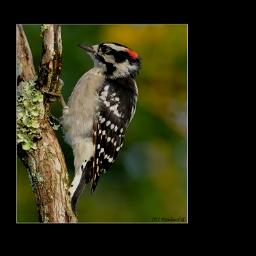Woodpecker: (44, 43, 144, 217)
